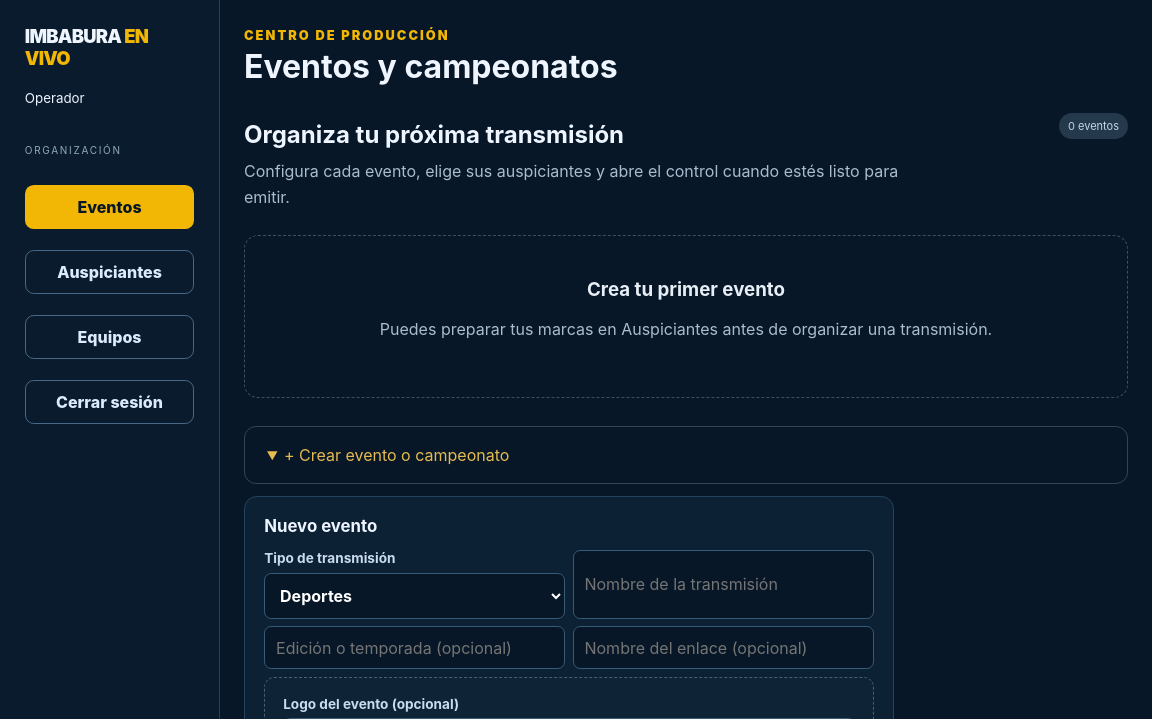
Test: la biblioteca de auspiciantes funciona sin tener eventos creados
What coordinates should you click on to do the following:
click the button "Auspiciantes"
I would click on:
 (110, 272)
Its box is [25, 250, 194, 294].
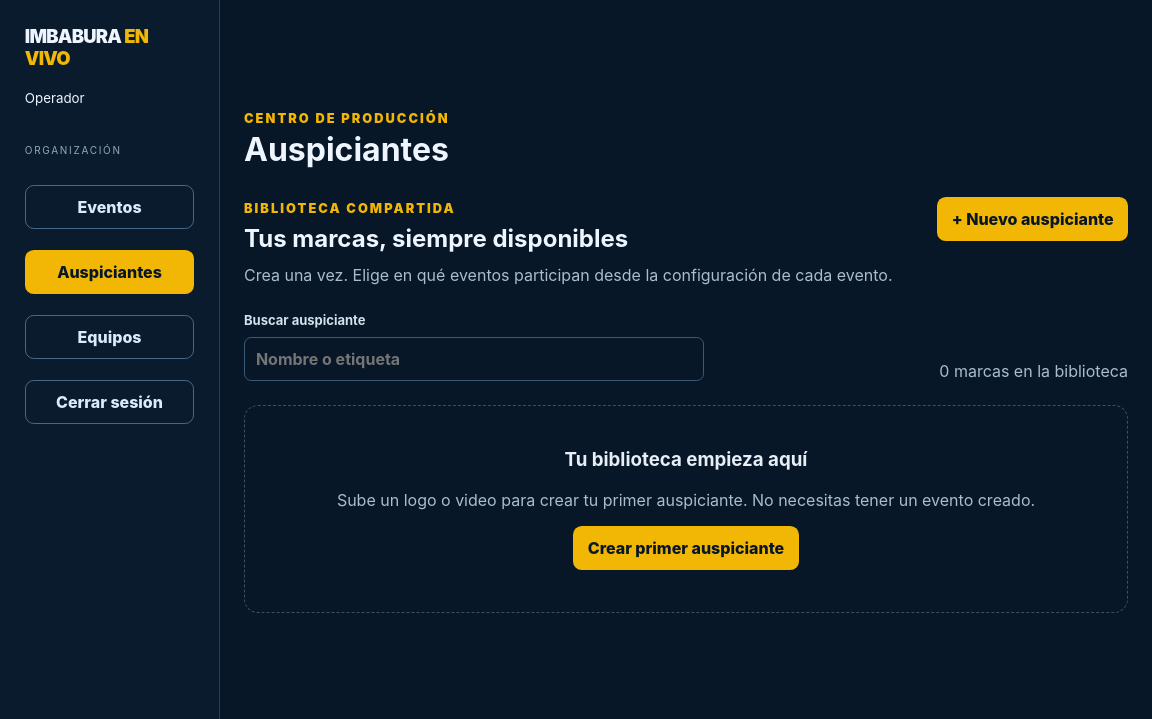
Expected: the heading "Tu biblioteca empieza aquí" is shown, [564, 448, 807, 471]
What coordinates should you click on to do the following:
click the button "+ Nuevo auspiciante"
I would click on:
 (1033, 219)
Its box is [937, 197, 1128, 241].
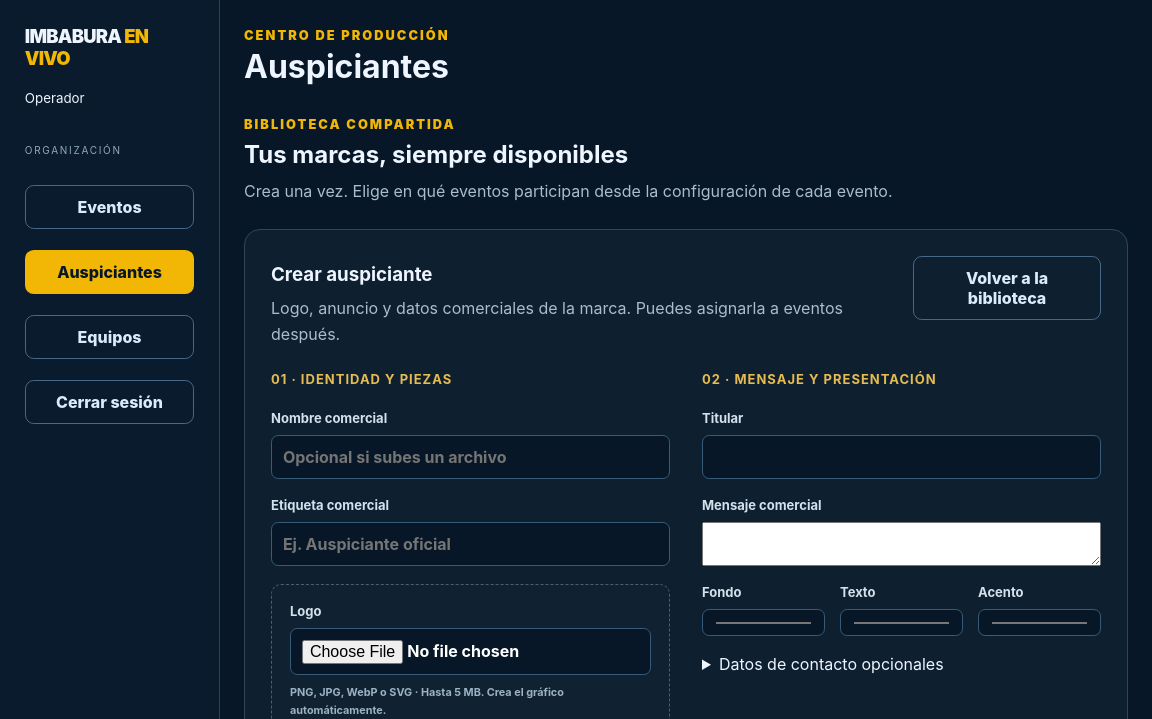
Expected: the field labelled "Nombre comercial" is shown, [271, 435, 670, 479]
